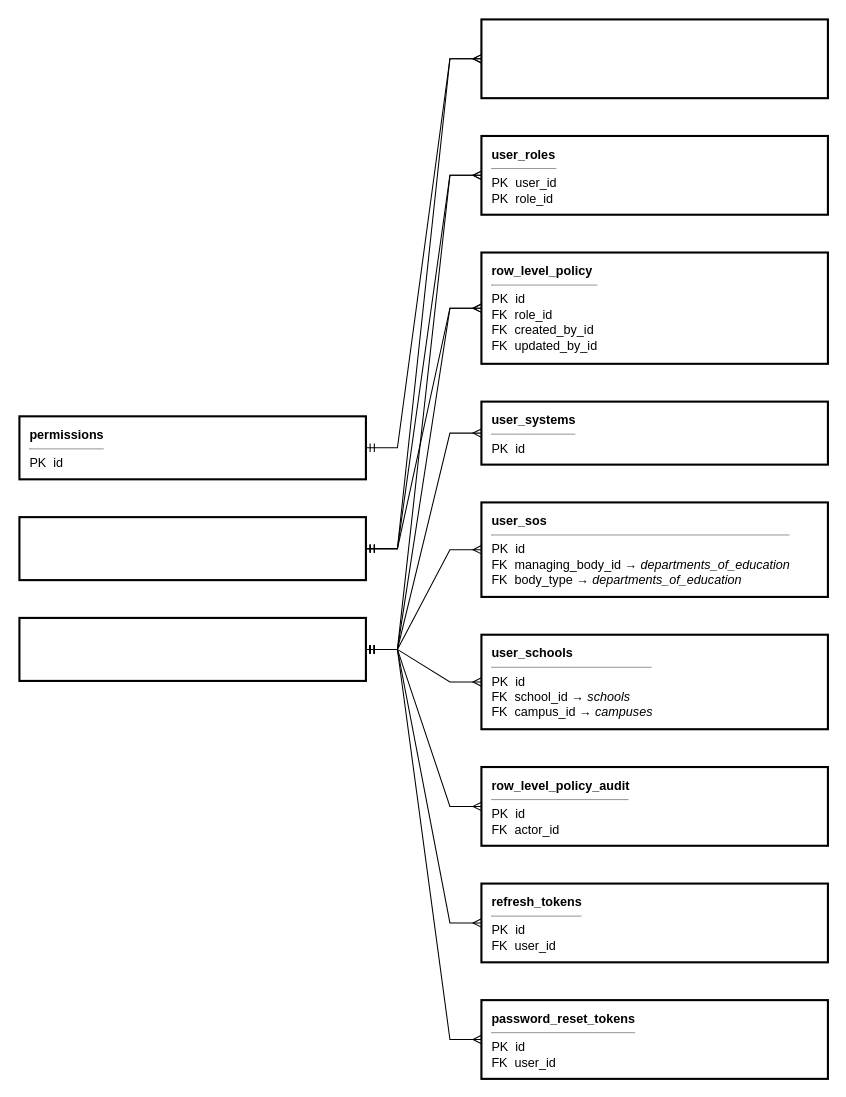
Image size: 846x1097. Some labels were removed from this diagram. Here are the shapes that lost their labels. From the top down, the centre of each, then its label:
At (x=654, y=58): "role_permissions PK role_id PK permission_id".
At (x=192, y=548): "roles PK id".
At (x=192, y=648): "users PK id".
